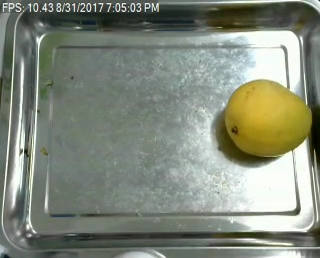Mango: (223, 80, 312, 157)
